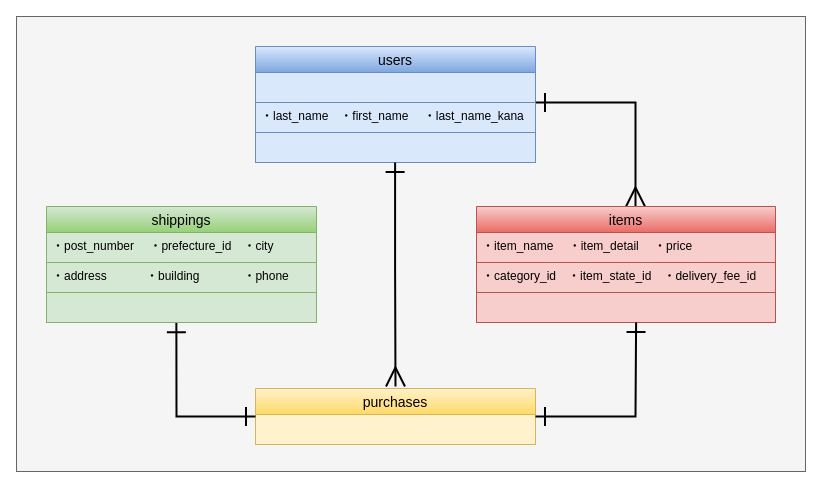
This 822x488 diagram has some shape labels left out. The centre of each missing label's shape, as x and y in pixels:
"・first_name_kana ・birthday" goes at pixel 395 147.
"・nickname ・email ・encrypted_password" goes at pixel 395 87.
"・prefecture_id ・spend_day_id ・user_id" goes at pixel 626 307.
"・purchase_id" goes at pixel 181 307.
"・user_id ・item_id" goes at pixel 395 429.
